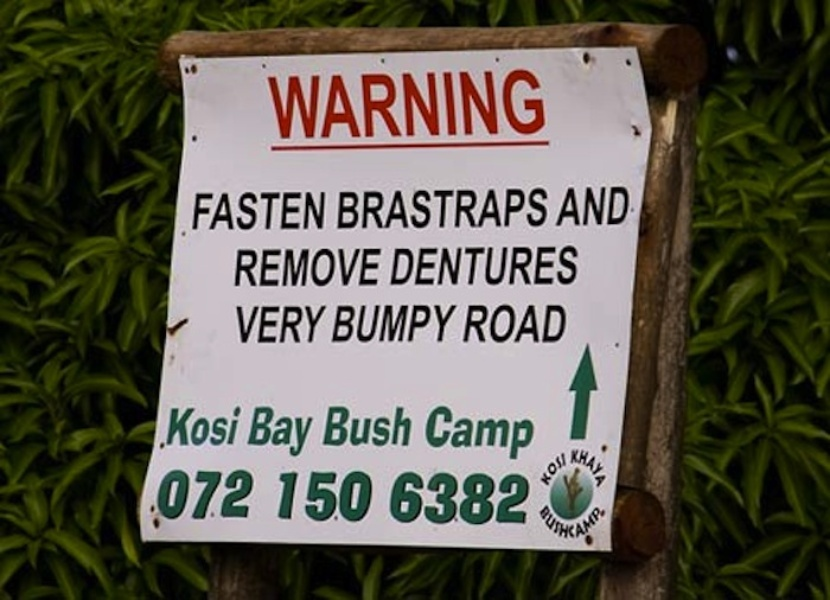text: (273, 67, 288, 140), (289, 67, 304, 140), (305, 67, 320, 140), (321, 67, 336, 140), (337, 67, 352, 140), (353, 67, 368, 140), (369, 67, 384, 140), (385, 67, 400, 140), (401, 67, 416, 140), (417, 67, 432, 140), (433, 67, 448, 140), (449, 67, 464, 140), (465, 67, 480, 140), (481, 67, 496, 140), (497, 67, 512, 140), (513, 67, 528, 140), (529, 67, 544, 140), (433, 405, 448, 461), (449, 405, 464, 461), (465, 405, 480, 461), (481, 405, 496, 461), (497, 405, 512, 461), (513, 405, 528, 461), (161, 467, 176, 523), (177, 467, 192, 523), (193, 467, 208, 523), (209, 467, 224, 523), (225, 467, 240, 523), (289, 468, 304, 523), (305, 468, 320, 523), (321, 468, 336, 523), (337, 468, 352, 523), (353, 468, 368, 523), (401, 470, 416, 525), (417, 470, 432, 525), (433, 470, 448, 525), (449, 470, 464, 525), (465, 470, 480, 525), (481, 470, 496, 525), (497, 470, 512, 525), (513, 470, 528, 525), (241, 467, 255, 523), (257, 405, 272, 457), (273, 405, 288, 457), (289, 405, 304, 457), (577, 444, 592, 490), (593, 444, 608, 490), (337, 187, 352, 231), (353, 187, 368, 231), (369, 187, 384, 231), (385, 187, 400, 231), (401, 187, 416, 231), (417, 187, 432, 231), (433, 187, 448, 231), (449, 187, 464, 231), (465, 187, 480, 231), (481, 187, 496, 231), (497, 187, 512, 231), (513, 187, 528, 231), (529, 187, 544, 231), (276, 468, 288, 523), (337, 405, 352, 448), (353, 405, 368, 448), (369, 405, 384, 448), (385, 405, 400, 448), (561, 503, 576, 546), (577, 503, 592, 546), (177, 406, 192, 448), (193, 406, 208, 448), (209, 406, 224, 448), (225, 406, 240, 448), (577, 185, 592, 227), (593, 185, 608, 227), (609, 185, 624, 227), (193, 190, 208, 232), (209, 190, 224, 232), (225, 190, 240, 232), (241, 190, 256, 232), (257, 190, 272, 232), (273, 190, 288, 232), (289, 190, 304, 232), (305, 190, 320, 232), (401, 245, 416, 286), (417, 245, 432, 286), (433, 245, 448, 286), (449, 245, 464, 286), (465, 245, 480, 286), (481, 245, 496, 286), (497, 245, 512, 286), (513, 245, 528, 286), (529, 245, 544, 286), (545, 245, 560, 286), (561, 245, 576, 286), (481, 303, 496, 344), (497, 303, 512, 344), (513, 303, 528, 344), (529, 303, 544, 344), (545, 303, 560, 344), (546, 503, 560, 546), (241, 247, 256, 287), (257, 247, 272, 287), (273, 247, 288, 287), (289, 247, 304, 287), (305, 247, 320, 287), (321, 247, 336, 287), (337, 247, 352, 287), (353, 247, 368, 287), (241, 304, 256, 344), (257, 304, 272, 344), (273, 304, 288, 344), (289, 304, 304, 344), (305, 304, 320, 344), (337, 304, 352, 344), (353, 304, 368, 344), (369, 304, 384, 344), (385, 304, 400, 344), (401, 304, 416, 344), (417, 304, 432, 344), (433, 304, 448, 344), (305, 405, 316, 457), (545, 450, 560, 488), (369, 247, 382, 287), (401, 405, 413, 448), (593, 503, 605, 546), (391, 470, 400, 525), (561, 450, 573, 488), (469, 303, 480, 344), (266, 67, 272, 140), (566, 185, 576, 227), (561, 303, 571, 344), (369, 468, 376, 523), (449, 304, 458, 344), (529, 405, 535, 461), (536, 450, 544, 488), (329, 405, 336, 448), (321, 190, 328, 232), (393, 245, 400, 286), (321, 304, 328, 344), (155, 467, 160, 523), (170, 406, 176, 448), (234, 247, 240, 287), (571, 444, 576, 490), (545, 67, 548, 140), (625, 185, 630, 227), (235, 304, 240, 344), (545, 187, 549, 231), (429, 405, 432, 461), (529, 470, 531, 525), (254, 405, 256, 457), (577, 245, 579, 286), (609, 444, 610, 490), (241, 406, 242, 448)
